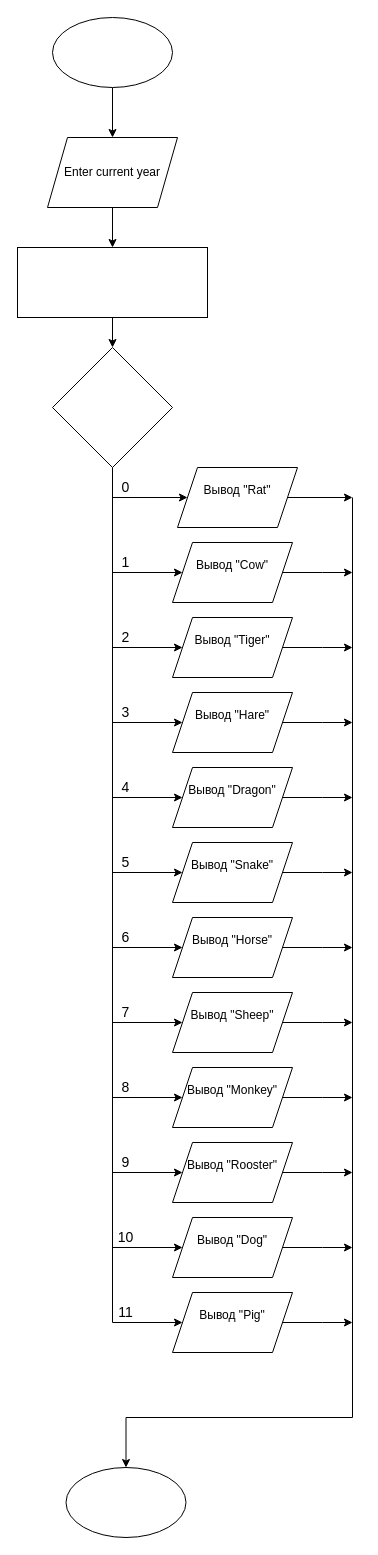
Image size: 378x1555. Some labels were removed from this diagram. The centre of each missing label's shape, as x and y in pixels:
"Cycle_year" belongs at (x=112, y=407).
"Cycle_year = Current_year % 12" belongs at (x=112, y=282).
"Конец" belongs at (x=125, y=1502).
"Начало" belongs at (x=112, y=52).
